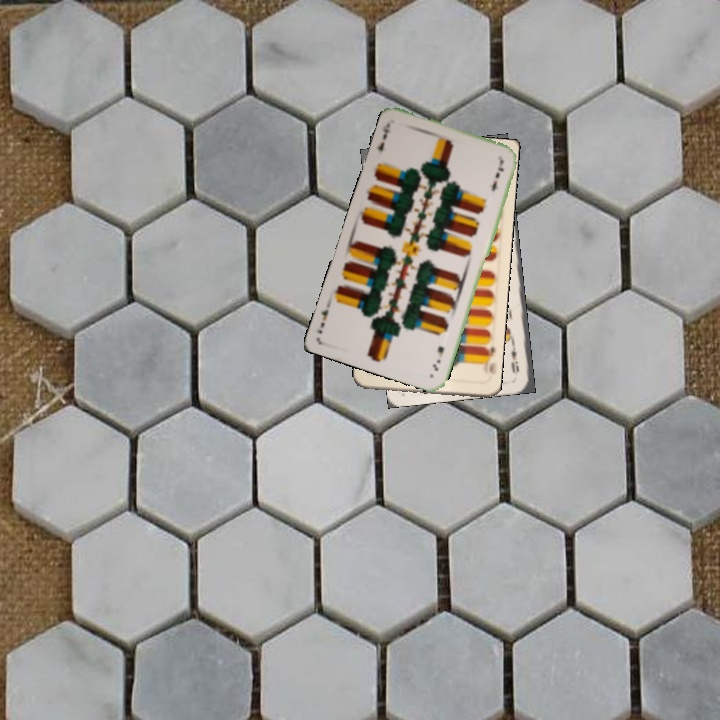E10: (479, 342, 498, 376)
E7: (372, 119, 392, 154), (428, 342, 446, 373)
E9: (507, 337, 521, 377)
